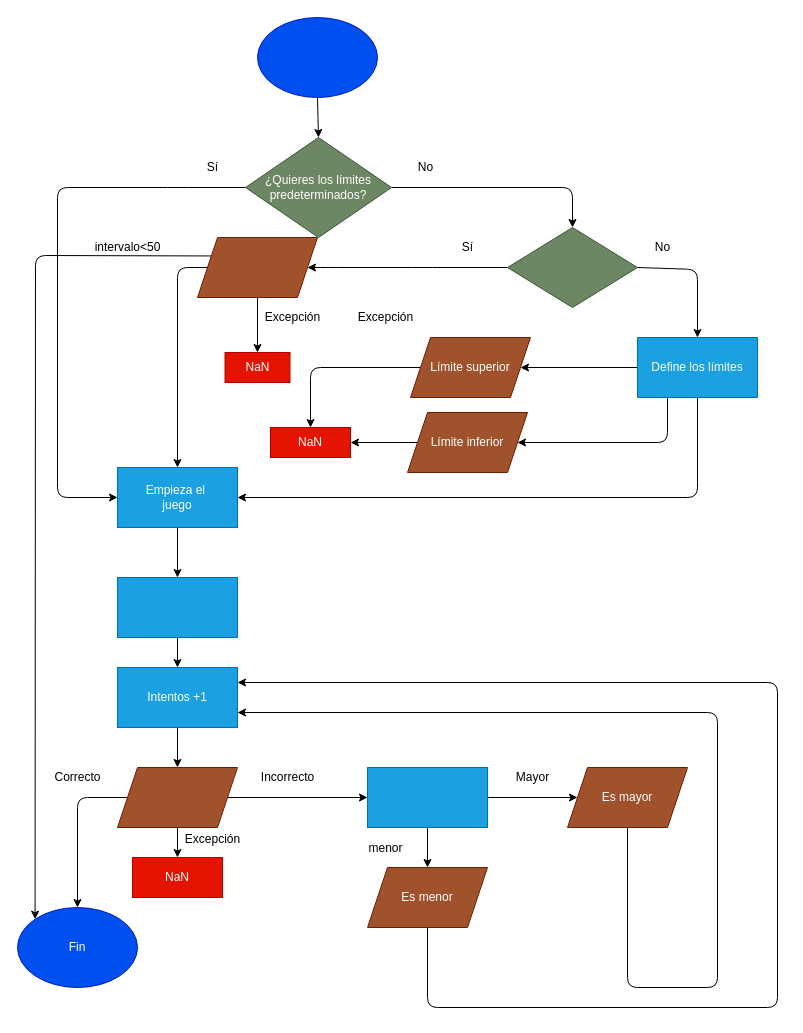
This 803x1033 diagram has some shape labels left out. The box of each missing label's shape, as (x1, y1, x2, y2) in pixels:
Comparación respecto al que buscamos: (366, 766, 488, 828)
Inicio: (256, 16, 378, 98)
Intervalo máximo para los límites: (196, 236, 318, 298)
Introducir un número: (116, 766, 238, 828)
Sacar número aleatorio: (116, 576, 238, 638)
¿Quieres límites aleatorios?: (506, 226, 638, 308)
